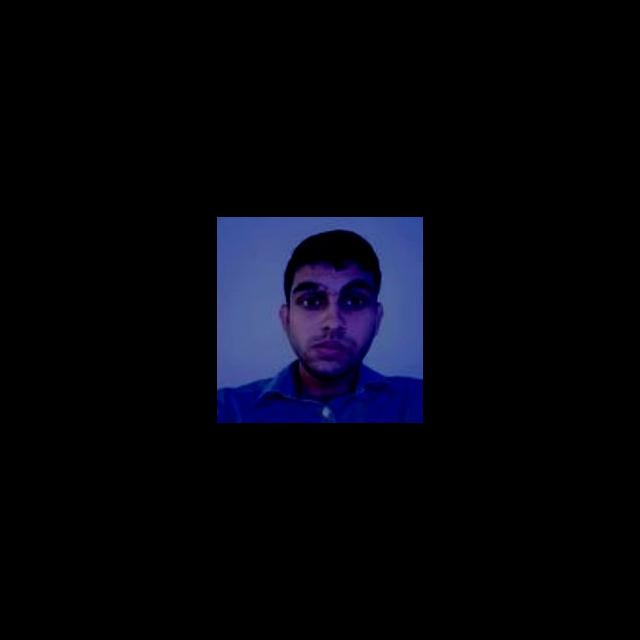Natural: (252, 248, 389, 392)
